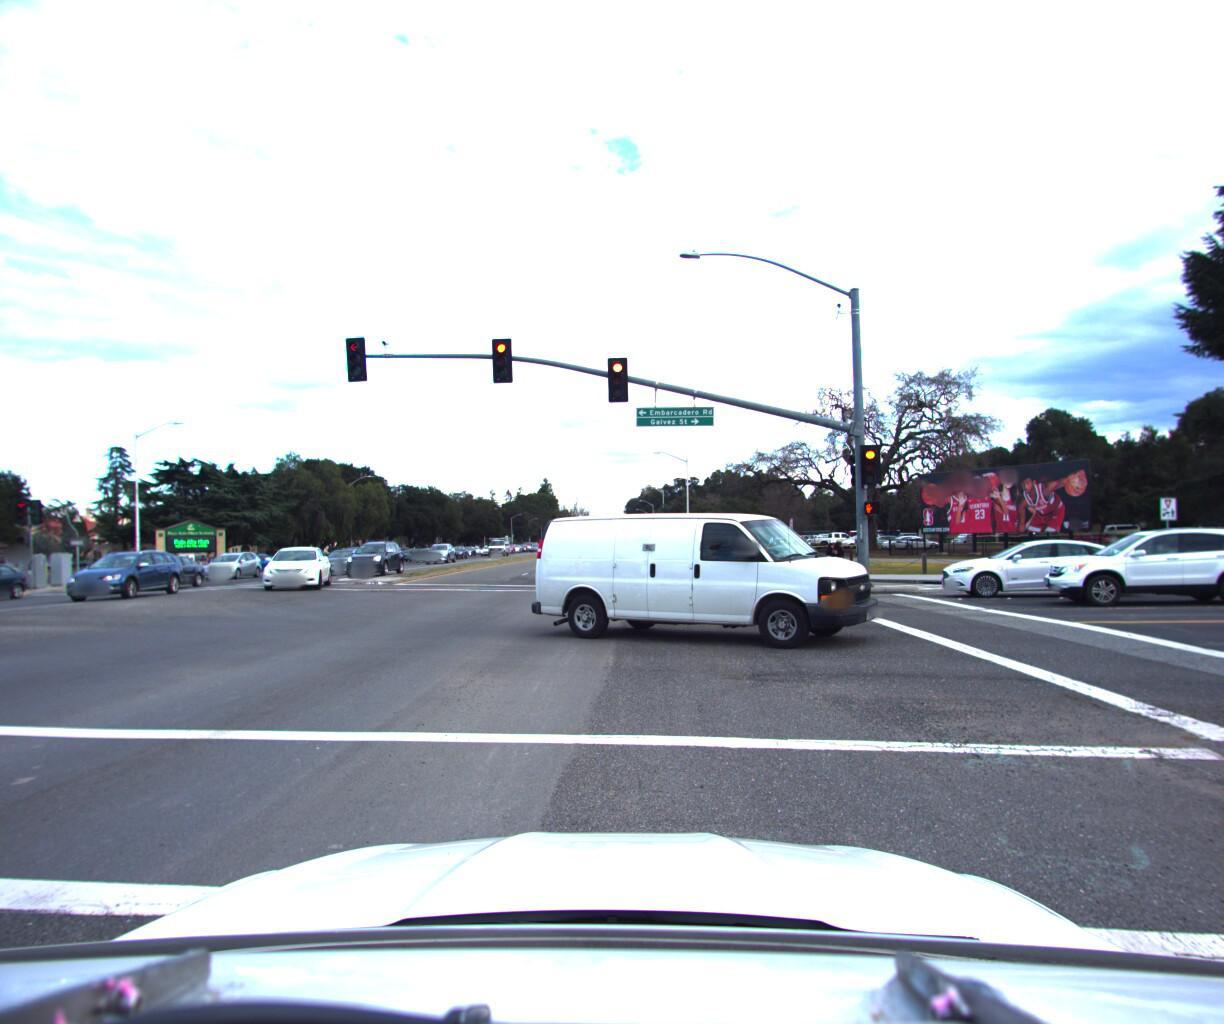bicycle: (812, 531, 846, 589)
car: (523, 499, 888, 651), (1026, 522, 1224, 601), (925, 531, 1145, 594), (53, 546, 191, 602), (114, 547, 211, 589), (257, 543, 334, 593), (343, 537, 407, 576), (202, 548, 267, 579), (309, 545, 370, 574), (420, 537, 456, 560)
